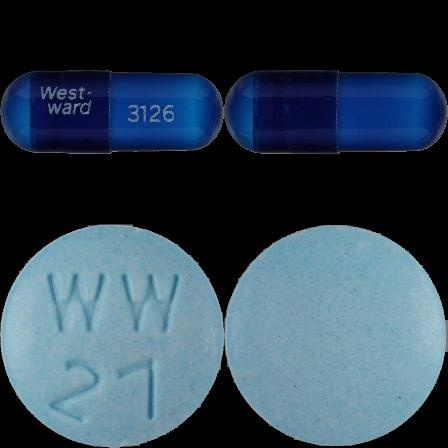60429-155: (0, 0, 224, 224)
